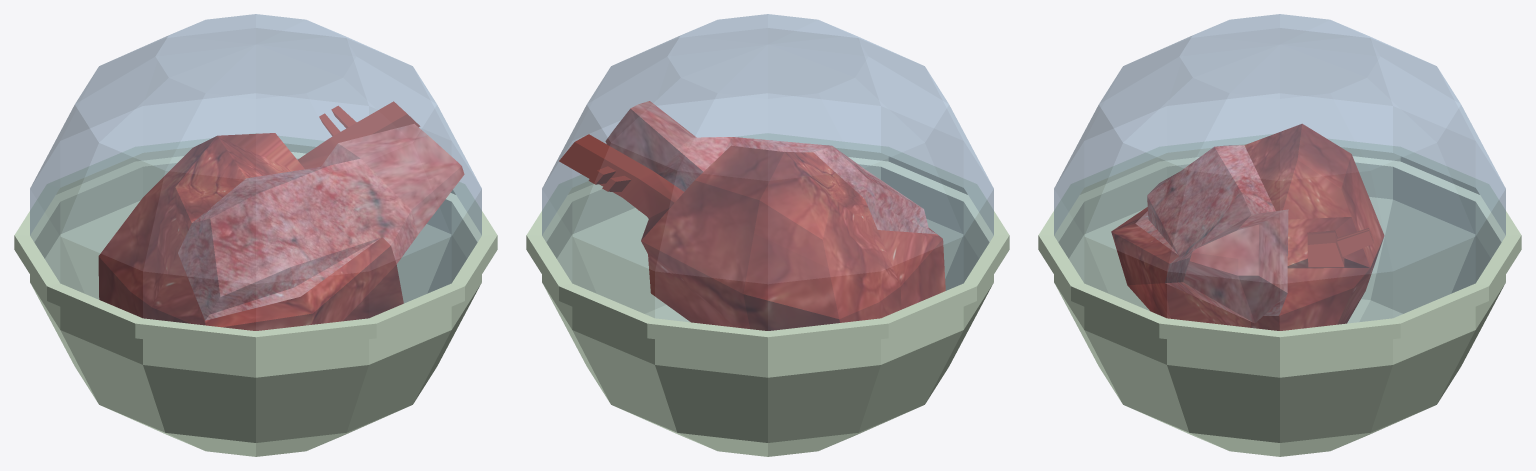
File: heartGacha.fbx
3 renders of one model, left to right at view 1: azimuth 30°, elevation 25°; view 2: azimuth 150°, elevation 25°; view 3: azimuth 270°, elevation 25°, orthographic.
Visible parts, largest first — view 1: Top, Sphere, Heart; view 2: Top, Sphere, Heart; view 3: Top, Sphere, Heart.
Part boxes in pixels (bbox=[...]): Top: bbox=[30, 14, 481, 330]; Sphere: bbox=[14, 133, 497, 456]; Heart: bbox=[98, 101, 464, 330]; Top: bbox=[542, 14, 993, 330]; Sphere: bbox=[526, 133, 1009, 456]; Heart: bbox=[559, 101, 945, 330]; Top: bbox=[1054, 14, 1505, 330]; Sphere: bbox=[1038, 134, 1521, 456]; Heart: bbox=[1111, 124, 1384, 330].
Bounding box in the file's own units: 295 × 257 × 295.
